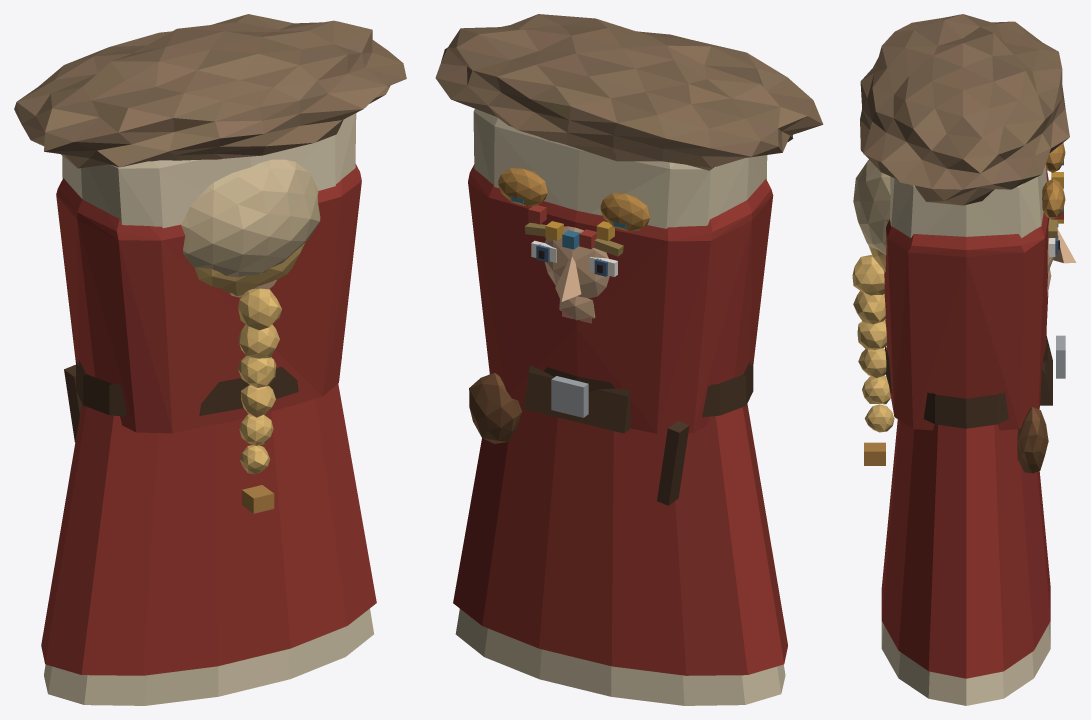
File: Settler_Woman_3.glb
The picture shows the model from 3 angles, left to right: view 1: azimuth 30°, elevation 25°; view 2: azimuth 150°, elevation 25°; view 3: azimuth 270°, elevation 25°; orthographic projection. The views are drawn at different scales.
Parts seen in each view (by area): view 1: Body, Head; view 2: Body, Head, Leg; view 3: Body, Head, Leg.
Part boxes in pixels (x1,y1,x2,y2): Body: (14,14,406,705); Head: (181,159,320,513); Body: (435,14,823,705); Head: (524,222,623,323); Leg: (524,365,630,433); Body: (860,14,1069,705); Head: (852,160,1076,465); Leg: (1040,335,1052,405).
Bounding box in the file's own units: 2.47 × 3.96 × 1.42.
1 material, 1 textured.
